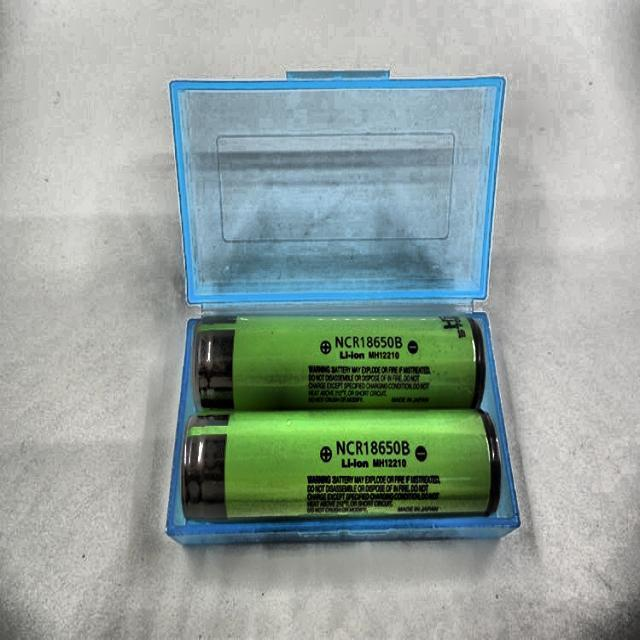battery: (181, 409, 501, 518), (194, 315, 485, 410)
